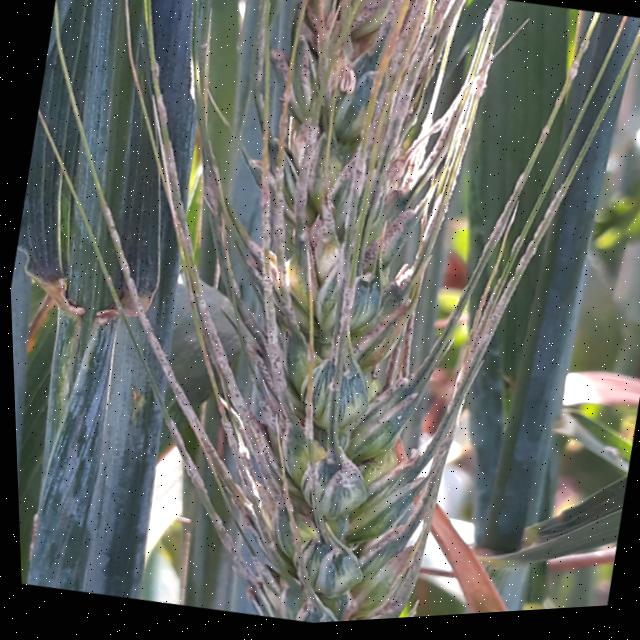powder_mildew: (62, 0, 591, 637), (9, 297, 234, 615)
